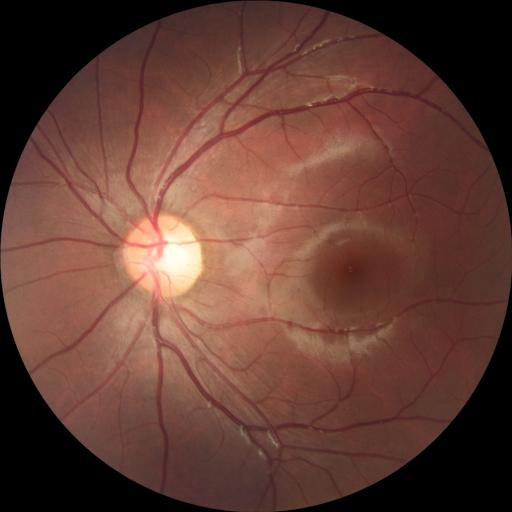Optic Cup: (148, 235, 188, 274)
Optic Disc: (122, 214, 203, 297)
